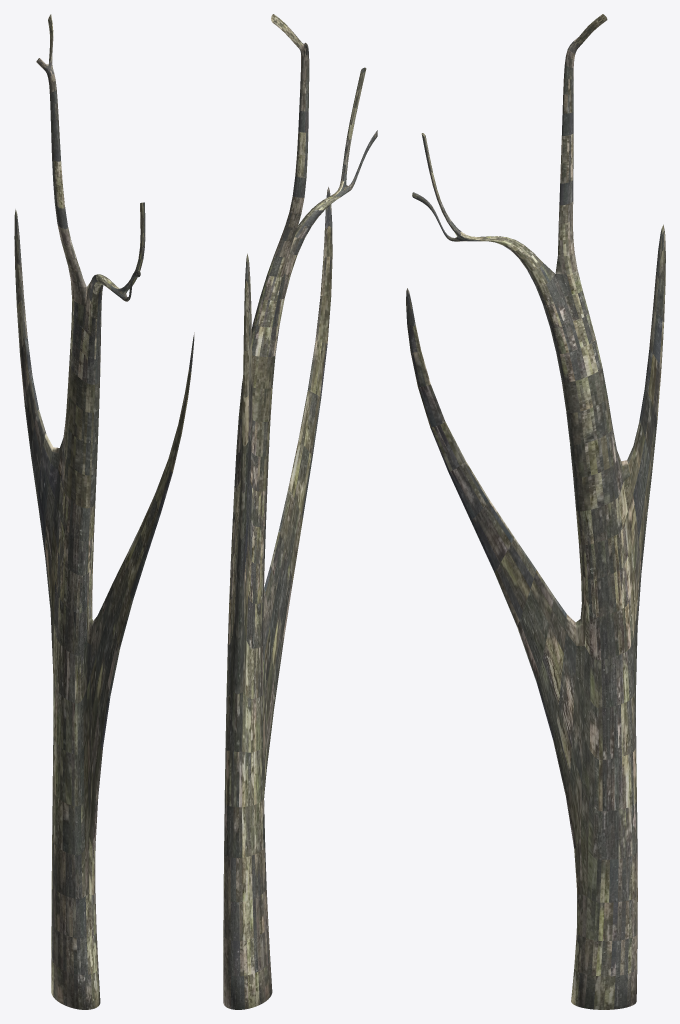
File: branch.glb
3 views of the same model, side by side, from view 1: azimuth 30°, elevation 25°; view 2: azimuth 150°, elevation 25°; view 3: azimuth 270°, elevation 25° (orthographic).
Visible parts, largest first — view 1: Circle; view 2: Circle; view 3: Circle.
Boxes of the visible parts, x1,y1,x2,y2 form: Circle: (14, 14, 194, 1009); Circle: (223, 14, 377, 1009); Circle: (406, 14, 665, 1009).
Bounding box in the file's own units: 0.05 × 0.6907 × 0.1668.
Materials: 1 (1 with a texture image).
